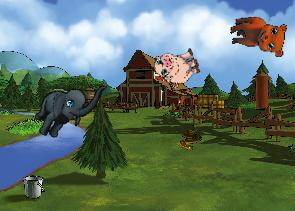bear: (229, 16, 287, 58)
elephant: (29, 65, 107, 151)
pig: (150, 40, 204, 92)
